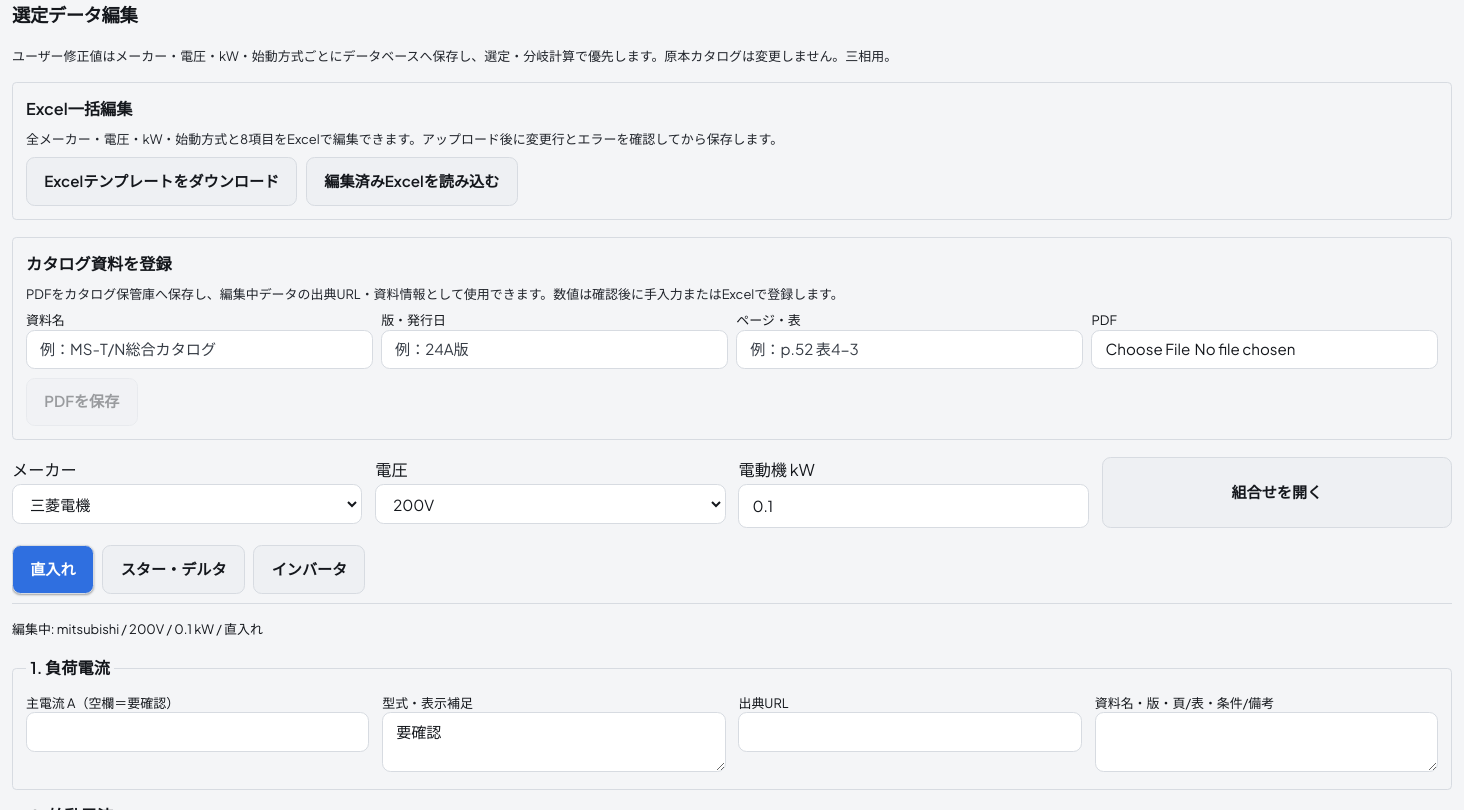
Test: selection data editor › persists a new kW combination, reloads all eight fields, and restores catalogue
The width and height of the screenshot is (1464, 810).
Later steps or results of the test are not shown.
Check: the button "組合せを開く" is enabled, box x1=1102 y1=457 x2=1452 y2=528
Replace the text in the number field labelled "電動機 kW" with "0.12" at (914, 506), box x1=738 y1=484 x2=1089 y2=528
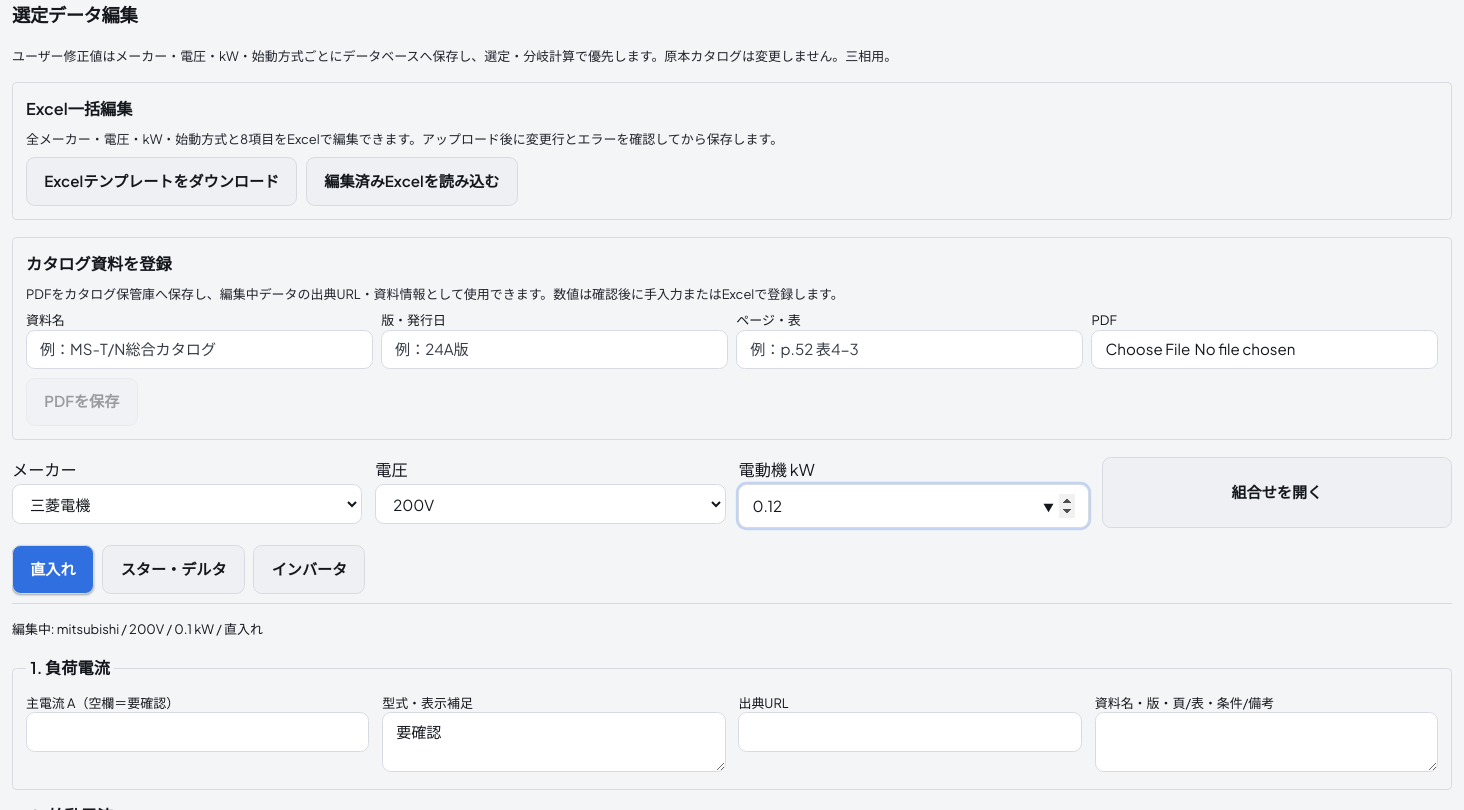
Click the button "組合せを開く" at (1277, 493), box x1=1102 y1=457 x2=1452 y2=528
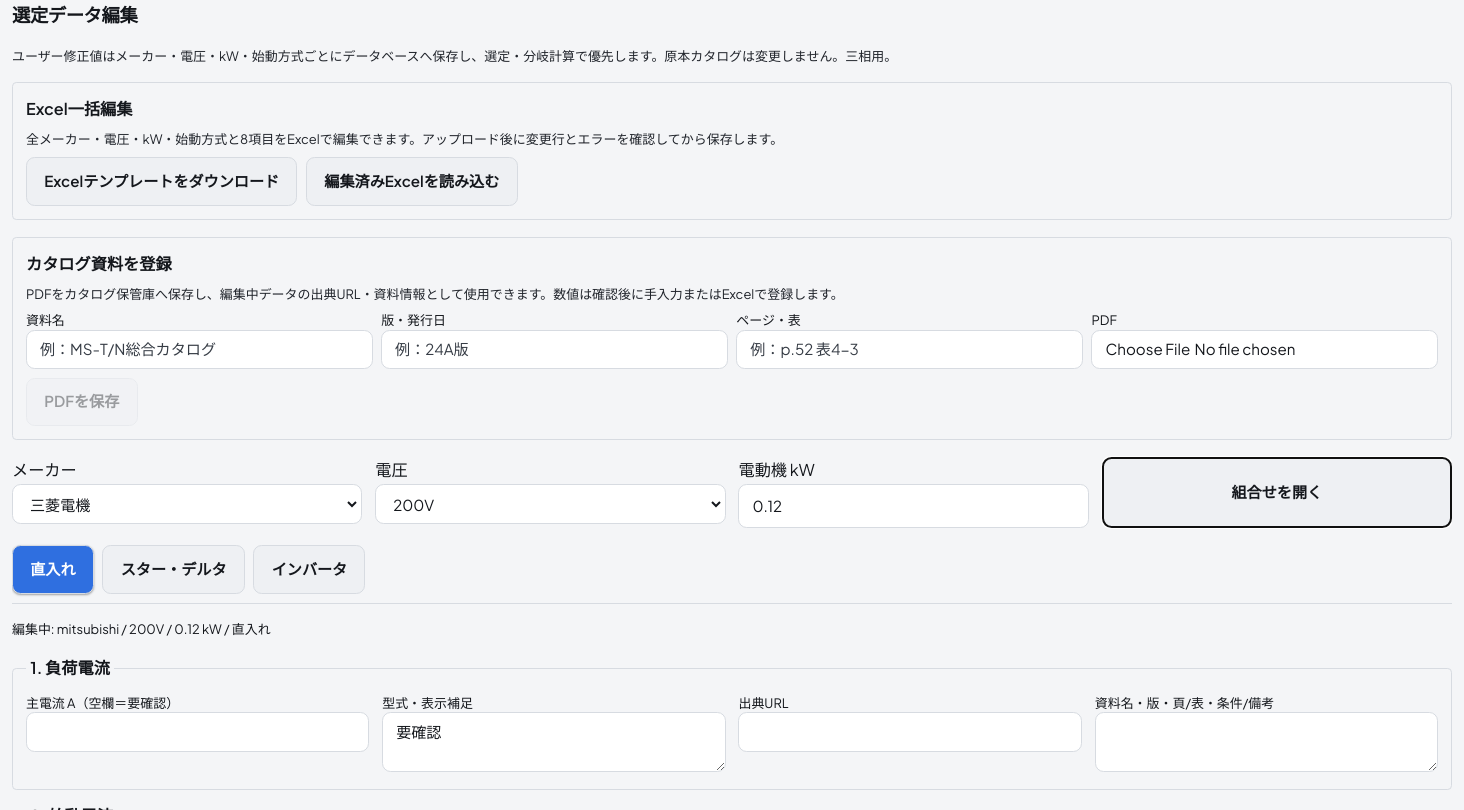
Type "1.25" into the number field labelled "主電流 A（空欄＝要確認）" at (198, 732), box x1=26 y1=712 x2=369 y2=752
(page scrolled)
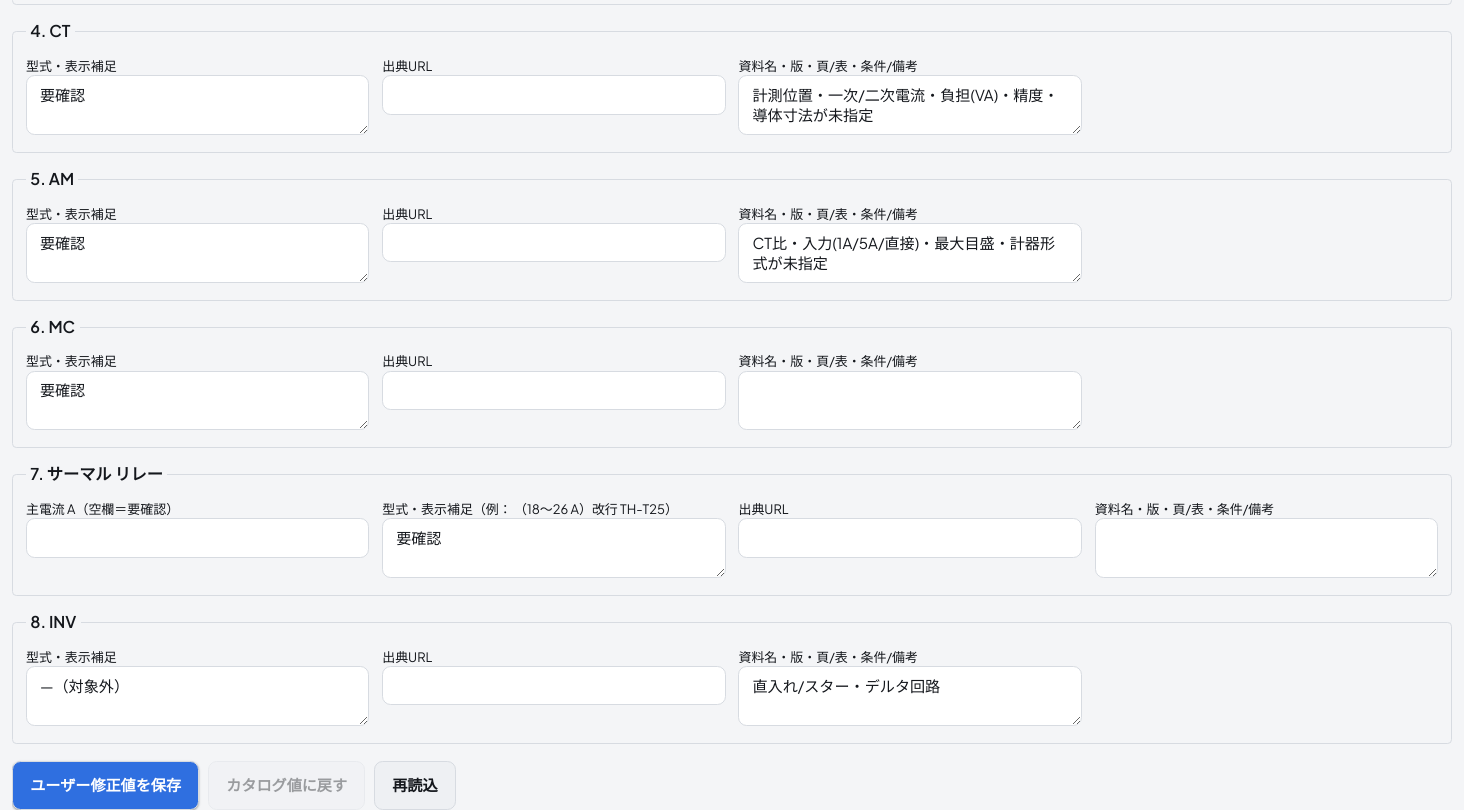
Click the button "ユーザー修正値を保存" at (106, 785), box x1=12 y1=761 x2=199 y2=809
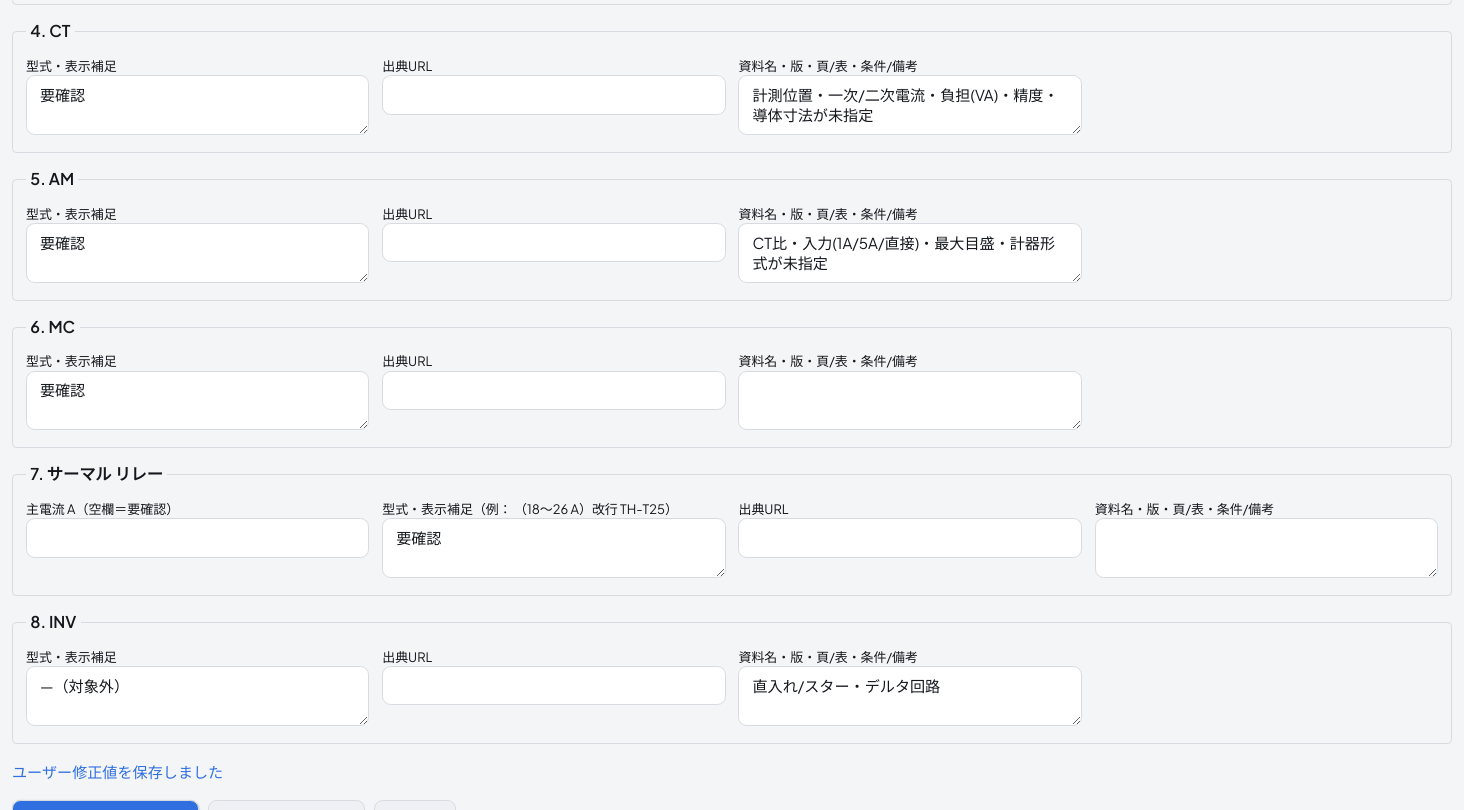
Check: the text "ユーザー修正値を保存しました" is shown, box x1=12 y1=762 x2=223 y2=781
